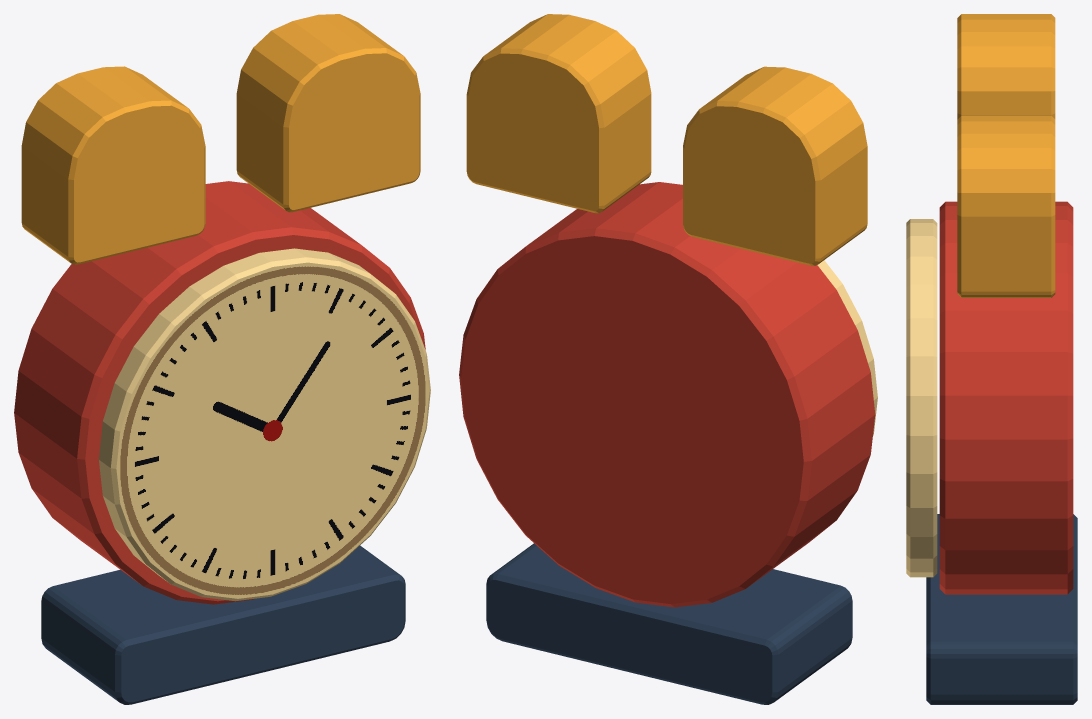
File: AlarmClockPrototype.glb
The picture shows the model from 3 angles, left to right: view 1: azimuth 30°, elevation 25°; view 2: azimuth 150°, elevation 25°; view 3: azimuth 270°, elevation 25°; orthographic projection. The views are drawn at different scales.
Parts seen in each view (by area): view 1: Part_002_Dial, Part_001_Case, Part_000_Base, Part_004_RightBell, Part_003_LeftBell; view 2: Part_001_Case, Part_000_Base, Part_004_RightBell, Part_003_LeftBell, Part_002_Dial; view 3: Part_001_Case, Part_004_RightBell, Part_000_Base, Part_002_Dial, Part_003_LeftBell.
Part boxes in pixels (box(x1,y1,x2,y2)): Part_002_Dial: box(99, 248, 430, 601); Part_001_Case: box(14, 181, 425, 604); Part_000_Base: box(41, 545, 405, 704); Part_004_RightBell: box(236, 14, 420, 212); Part_003_LeftBell: box(21, 66, 205, 264); Part_001_Case: box(459, 182, 875, 607); Part_000_Base: box(486, 543, 852, 704); Part_004_RightBell: box(466, 14, 651, 213); Part_003_LeftBell: box(683, 66, 867, 265); Part_002_Dial: box(817, 260, 877, 435); Part_001_Case: box(939, 201, 1073, 594); Part_004_RightBell: box(957, 115, 1055, 297); Part_000_Base: box(926, 514, 1077, 704); Part_002_Dial: box(906, 219, 937, 577); Part_003_LeftBell: box(957, 14, 1055, 119).
Bounding box in the file's own units: 8.85 × 14 × 3.85.
Materials: 5 (1 with a texture image).
